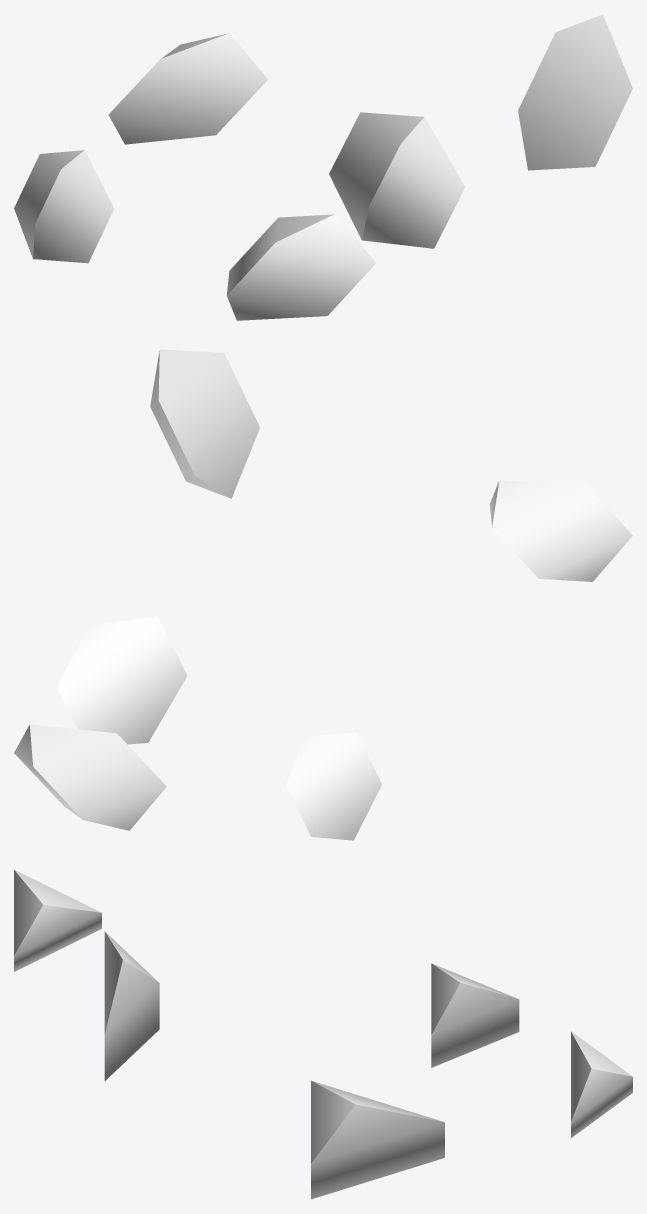
File: K_GOMI02.glb
3 views of the same model, one above another, from view 1: azimuth 30°, elevation 25°; view 2: azimuth 150°, elevation 25°; view 3: azimuth 270°, elevation 25° (orthographic). The views are drawn at different scales.
Parts seen in each view (by area): view 1: FRAME_ROOT; view 2: FRAME_ROOT; view 3: FRAME_ROOT.
Boxes of the visible parts, x1=… form: FRAME_ROOT: x1=14, y1=14, x2=632, y2=320; FRAME_ROOT: x1=14, y1=349, x2=632, y2=840; FRAME_ROOT: x1=14, y1=869, x2=632, y2=1199.
Bounding box in the file's own units: 3.57 × 2.22 × 4.57.
1 material, 1 textured.
